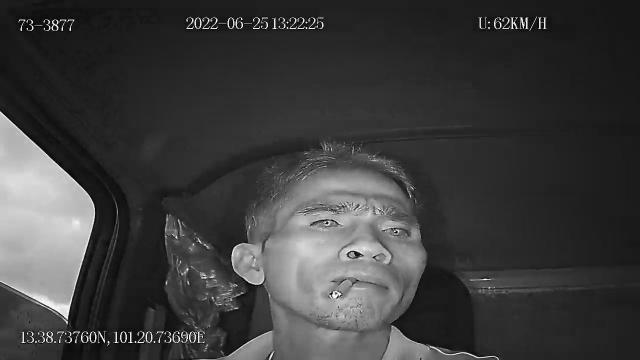SafeDriving: (302, 210, 349, 234), (373, 218, 418, 242)
Smoking: (328, 278, 354, 302)
